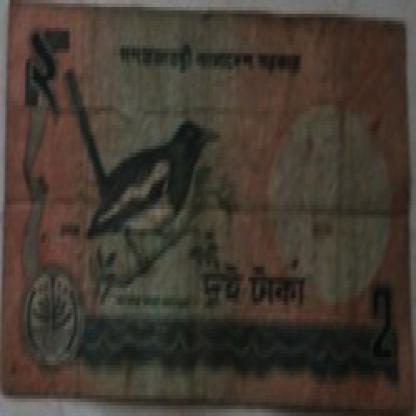two taka: (25, 27, 75, 132), (364, 274, 396, 374)
